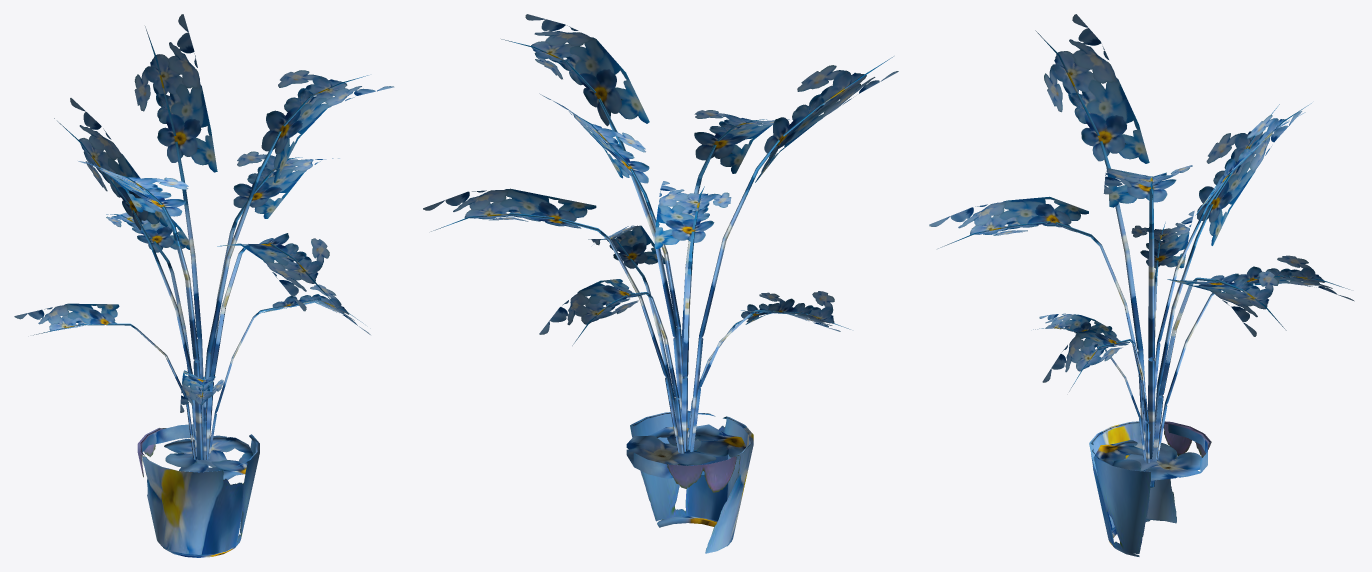
Rendered from large floorplant.fbx.
The picture shows the model from 3 angles, left to right: view 1: azimuth 30°, elevation 25°; view 2: azimuth 150°, elevation 25°; view 3: azimuth 270°, elevation 25°; orthographic projection. The views are drawn at different scales.
Visible parts, largest first — view 1: floorplant:floorplant; view 2: floorplant:floorplant; view 3: floorplant:floorplant.
Part boxes in pixels (x1,y1,x2,y2): floorplant:floorplant: [14, 14, 394, 557]; floorplant:floorplant: [423, 14, 898, 553]; floorplant:floorplant: [929, 14, 1354, 556].
Size of the model in its own units: 822 by 997 by 838.
